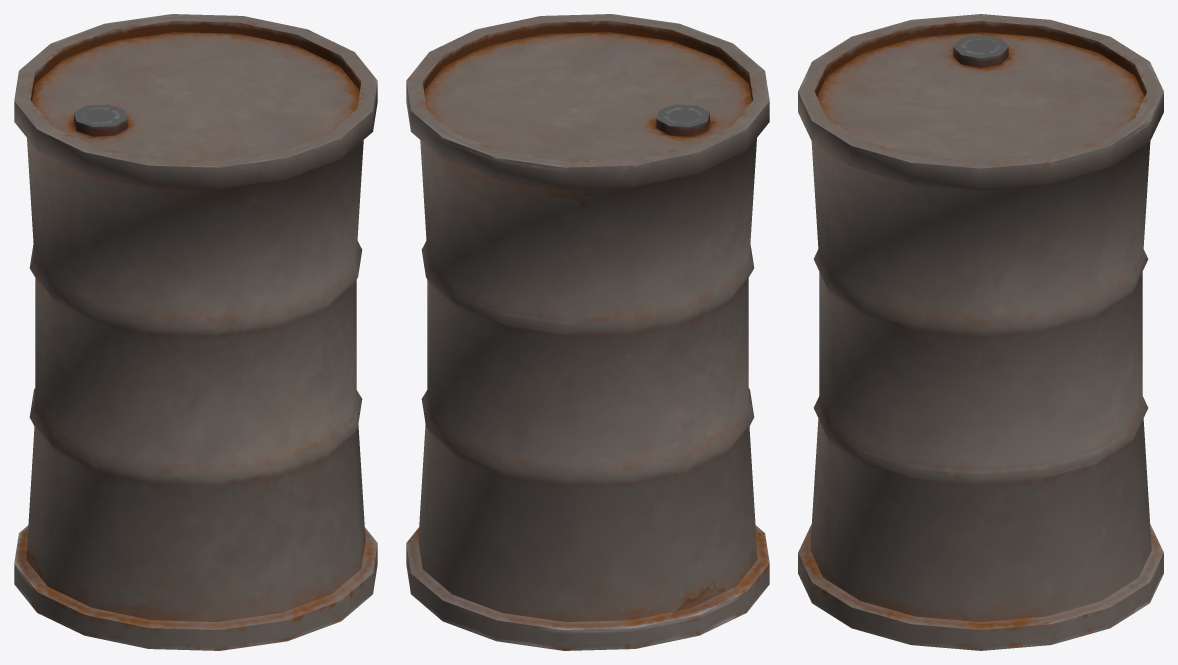
Rendered from SM_Props_Barrel_01.glb.
3 renders of one model, left to right at view 1: azimuth 30°, elevation 25°; view 2: azimuth 150°, elevation 25°; view 3: azimuth 270°, elevation 25°, orthographic.
Visible parts, largest first — view 1: SM_Barrel_01; view 2: SM_Barrel_01; view 3: SM_Barrel_01.
Part boxes in pixels (x1,y1,x2,y2): SM_Barrel_01: (14, 14, 377, 650); SM_Barrel_01: (406, 14, 769, 650); SM_Barrel_01: (798, 14, 1163, 650).
Size of the model in its own units: 0.55 by 0.8 by 0.55.
1 material, 1 textured.
